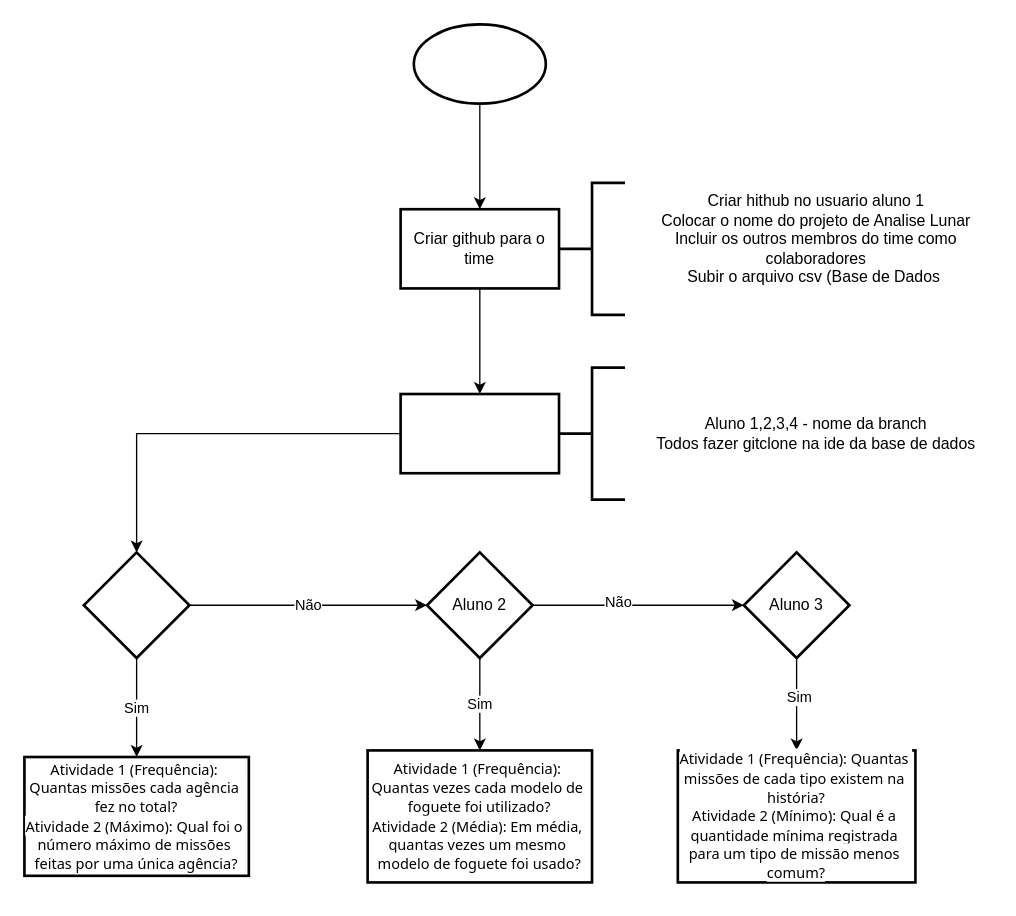
Image size: 1016x916. Some labels were removed from this diagram. The shapes that lost their labels are listed below. From the top down, each one's centre as x and y in pixels, then its label:
the point at 479,63: Inicio do projeto
the point at 479,433: Abrir IDE
the point at 136,604: Aluno 1
